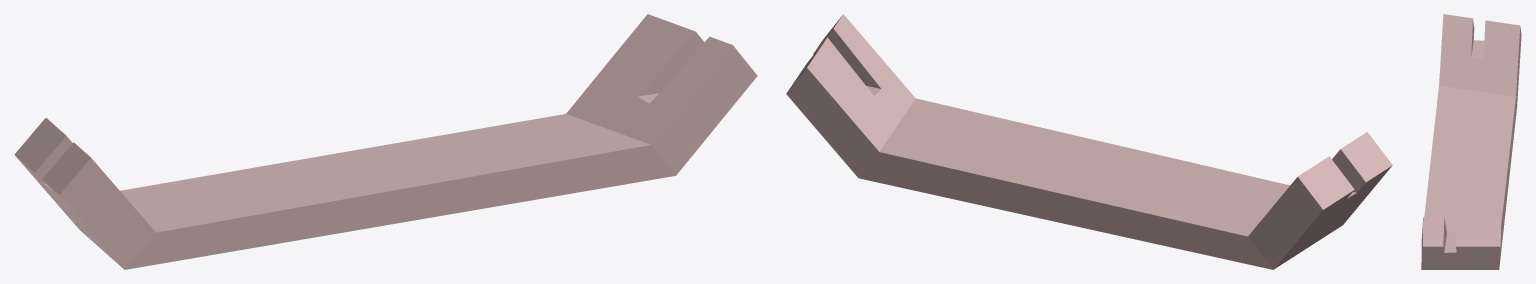
The model's file is for sword3.fbx.
3 renders of one model, left to right at view 1: azimuth 30°, elevation 25°; view 2: azimuth 150°, elevation 25°; view 3: azimuth 270°, elevation 25°, orthographic. The views are drawn at different scales.
Parts seen in each view (by area): view 1: Cube.036; view 2: Cube.036; view 3: Cube.036.
Part boxes in pixels (box(x1,y1,x2,y2)): Cube.036: box(14, 14, 757, 269); Cube.036: box(786, 14, 1392, 269); Cube.036: box(1421, 14, 1521, 269).
Bounding box in the file's own units: 277 × 59.66 × 57.82.
